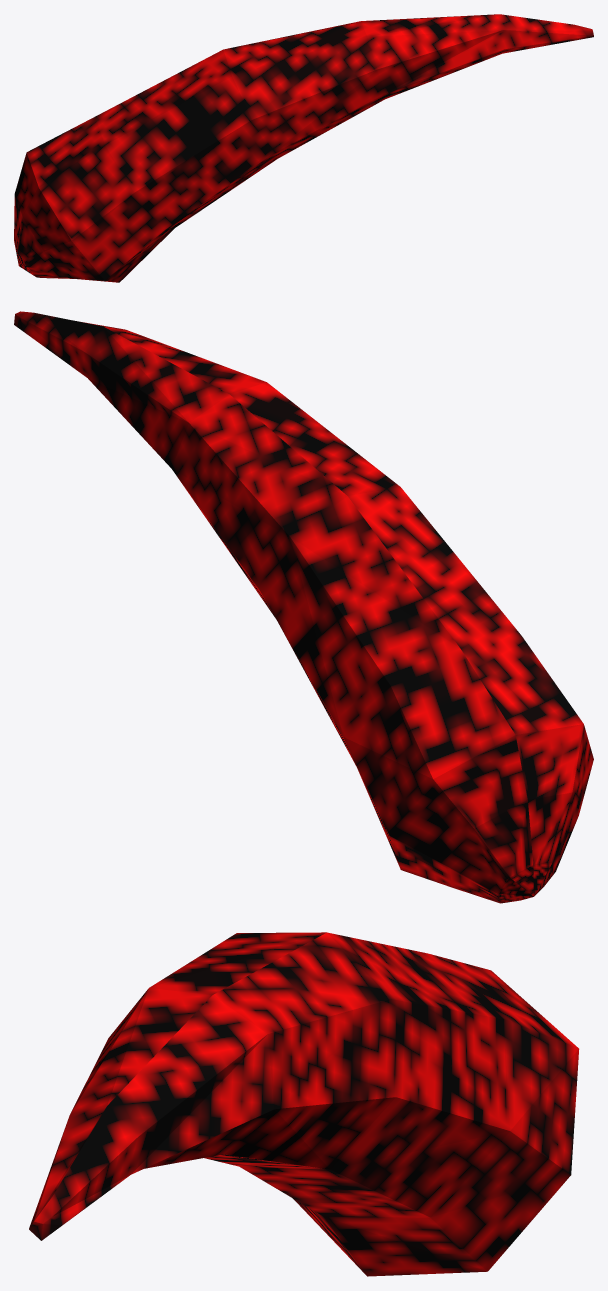
Rendered from SM_Carcass_Ball_01_KJS_Object001.fbx.
3 views of the same model, one above another, from view 1: azimuth 30°, elevation 25°; view 2: azimuth 150°, elevation 25°; view 3: azimuth 270°, elevation 25° (orthographic). The views are drawn at different scales.
Visible parts, largest first — view 1: SM_Carcass_Ball_01_KJS_Object001; view 2: SM_Carcass_Ball_01_KJS_Object001; view 3: SM_Carcass_Ball_01_KJS_Object001.
Part boxes in pixels (x1,y1,x2,y2): SM_Carcass_Ball_01_KJS_Object001: (14, 14, 593, 282); SM_Carcass_Ball_01_KJS_Object001: (14, 311, 593, 903); SM_Carcass_Ball_01_KJS_Object001: (29, 932, 579, 1276).
Size of the model in its own units: 107 by 51.33 by 53.43.
